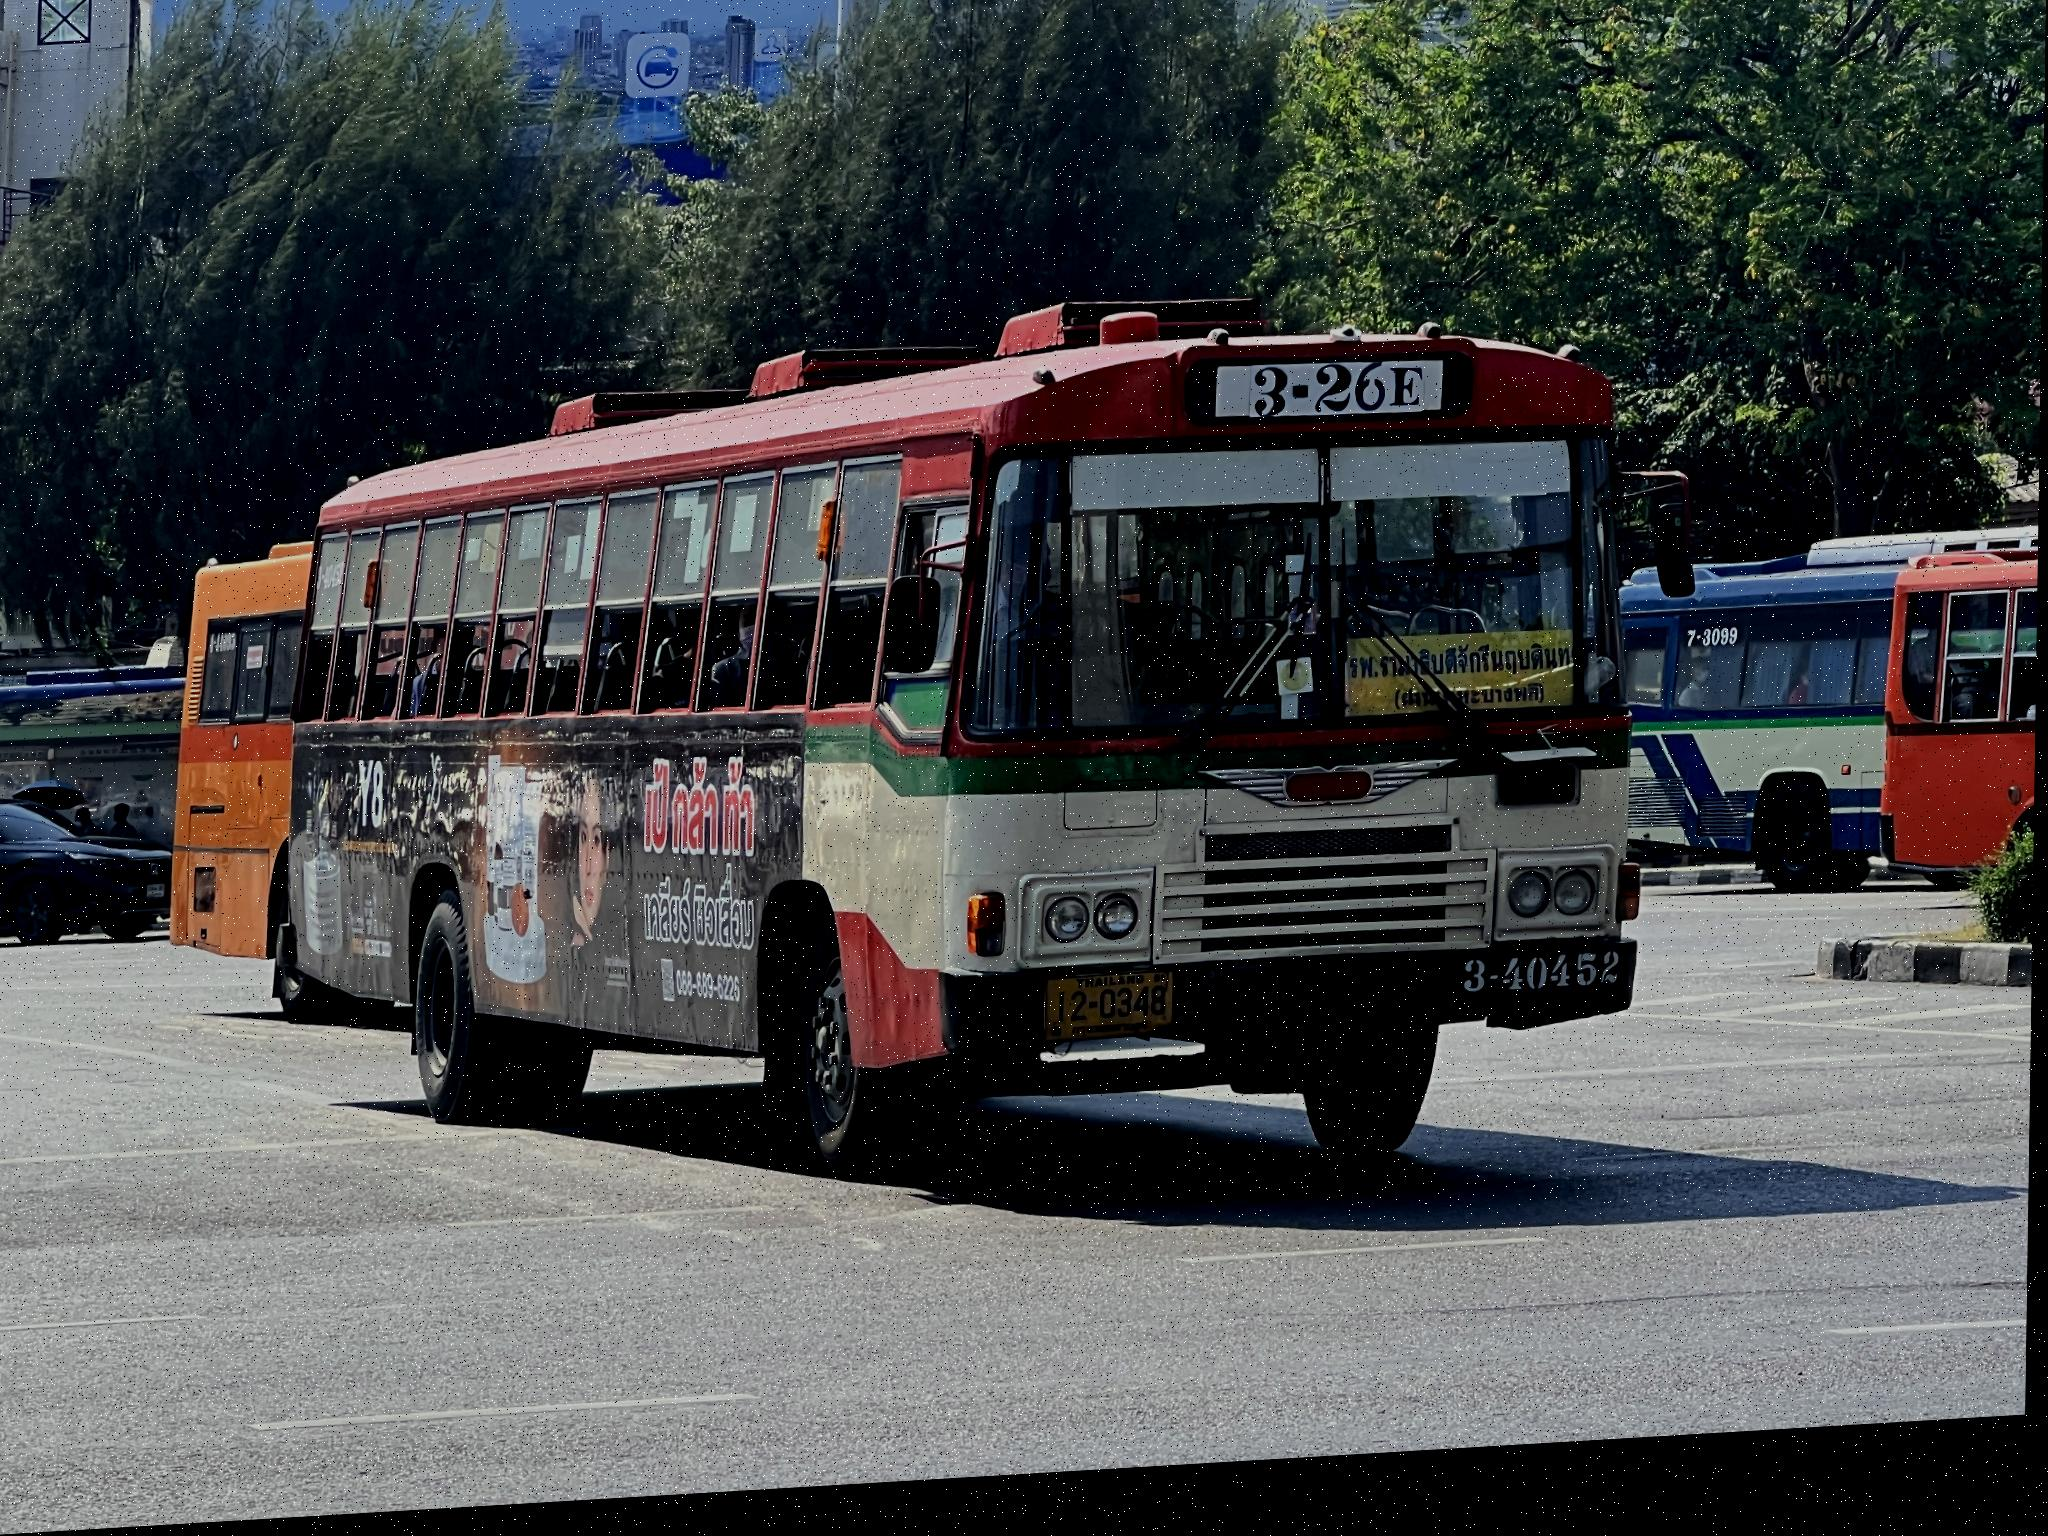BMTA-bus: (274, 316, 1645, 1192), (163, 544, 311, 971)
Bus Line Number: (1190, 355, 1479, 447)
Bus Side Number: (1464, 965, 1629, 1018)
Destination Sign: (1343, 642, 1582, 739)
